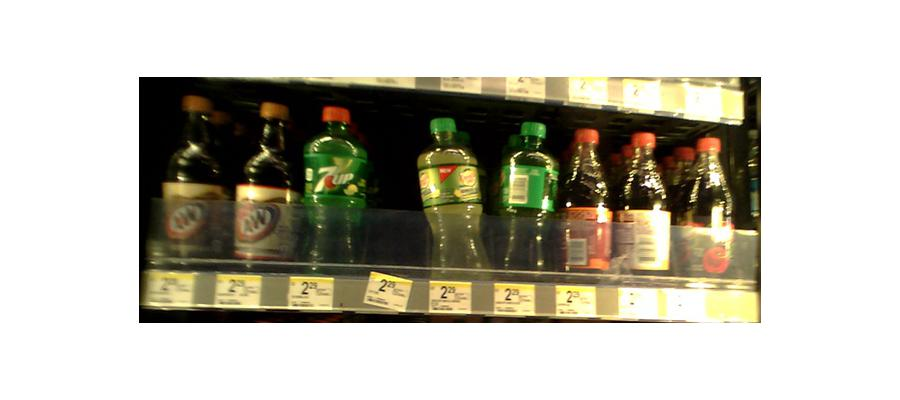bottle: (160, 92, 230, 270), (302, 103, 366, 270), (489, 119, 557, 276), (422, 118, 485, 279), (235, 101, 295, 269), (557, 125, 613, 283), (616, 128, 672, 285), (680, 130, 734, 285)
